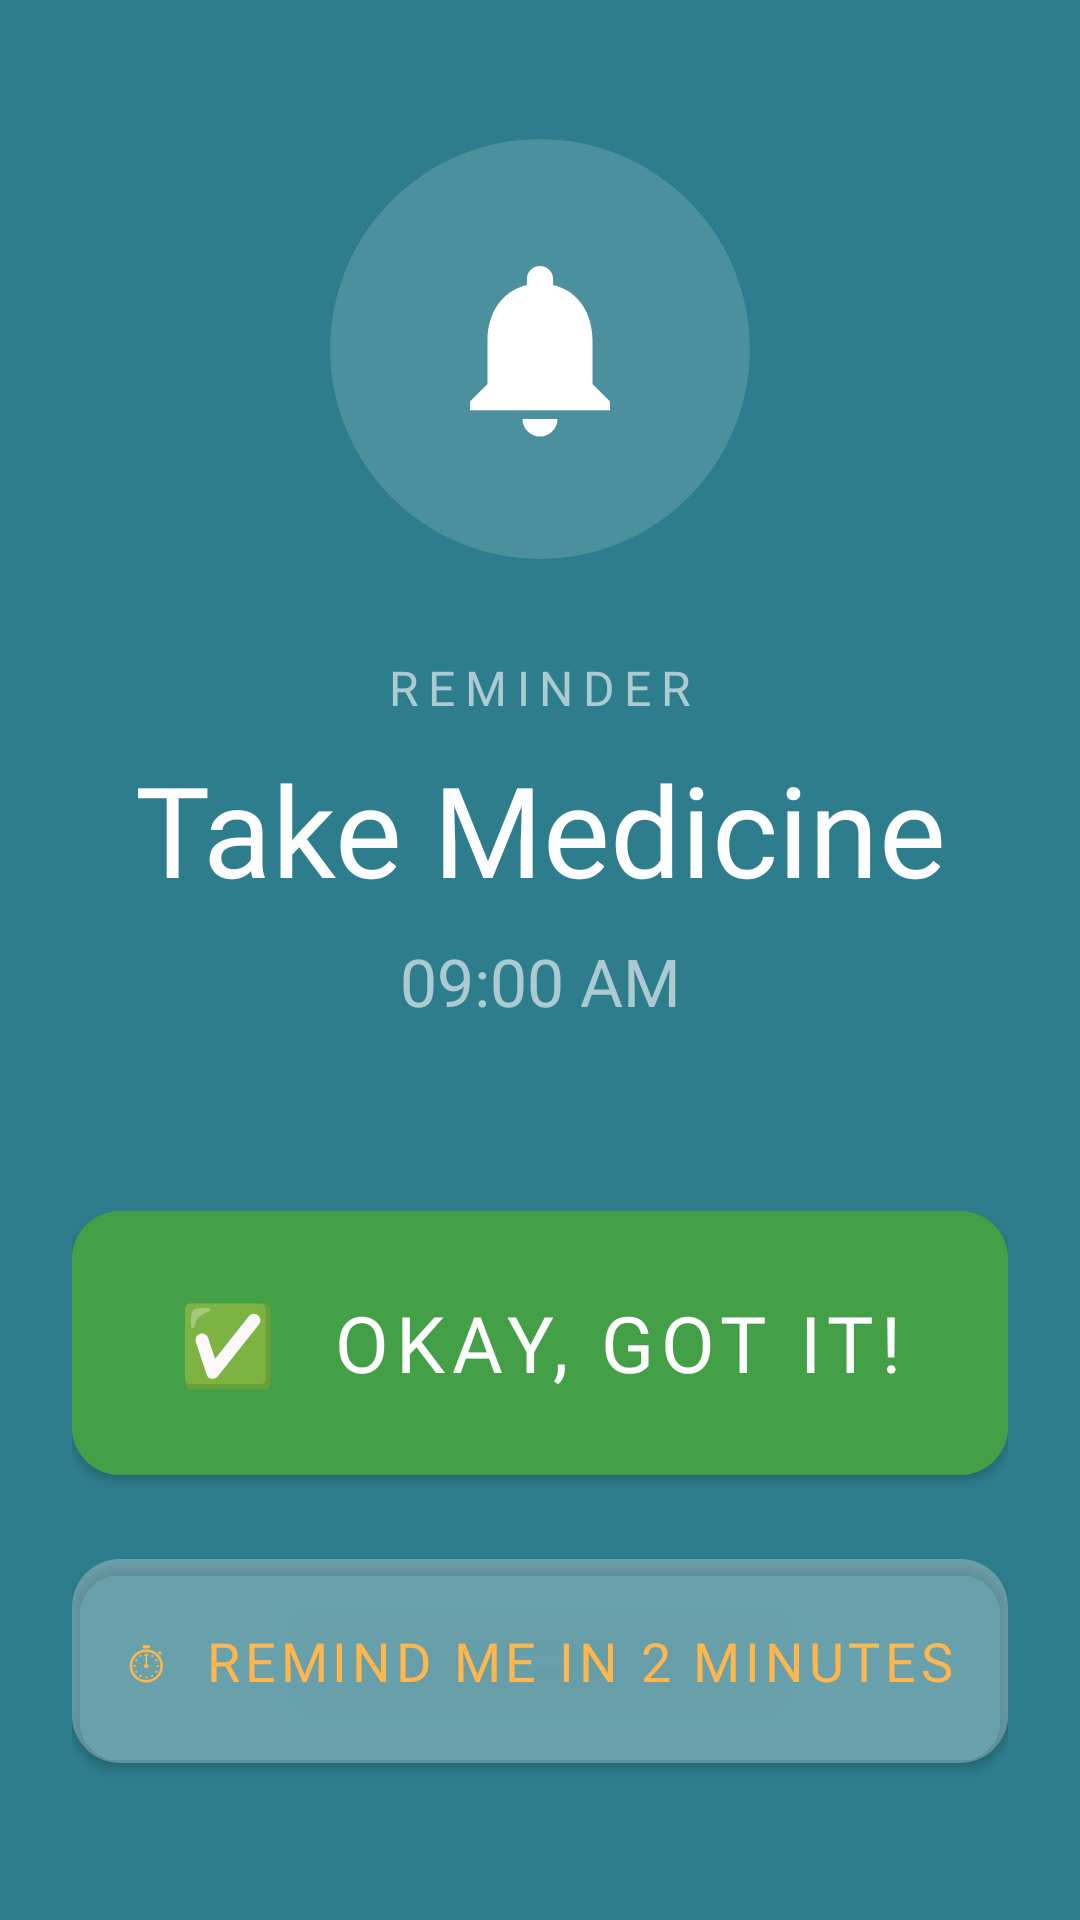

Screen size 1080px x 1920px. Icon name, then its box in pixels as (x1, y1, x2, y2):
notifications: (470, 266, 610, 437)
